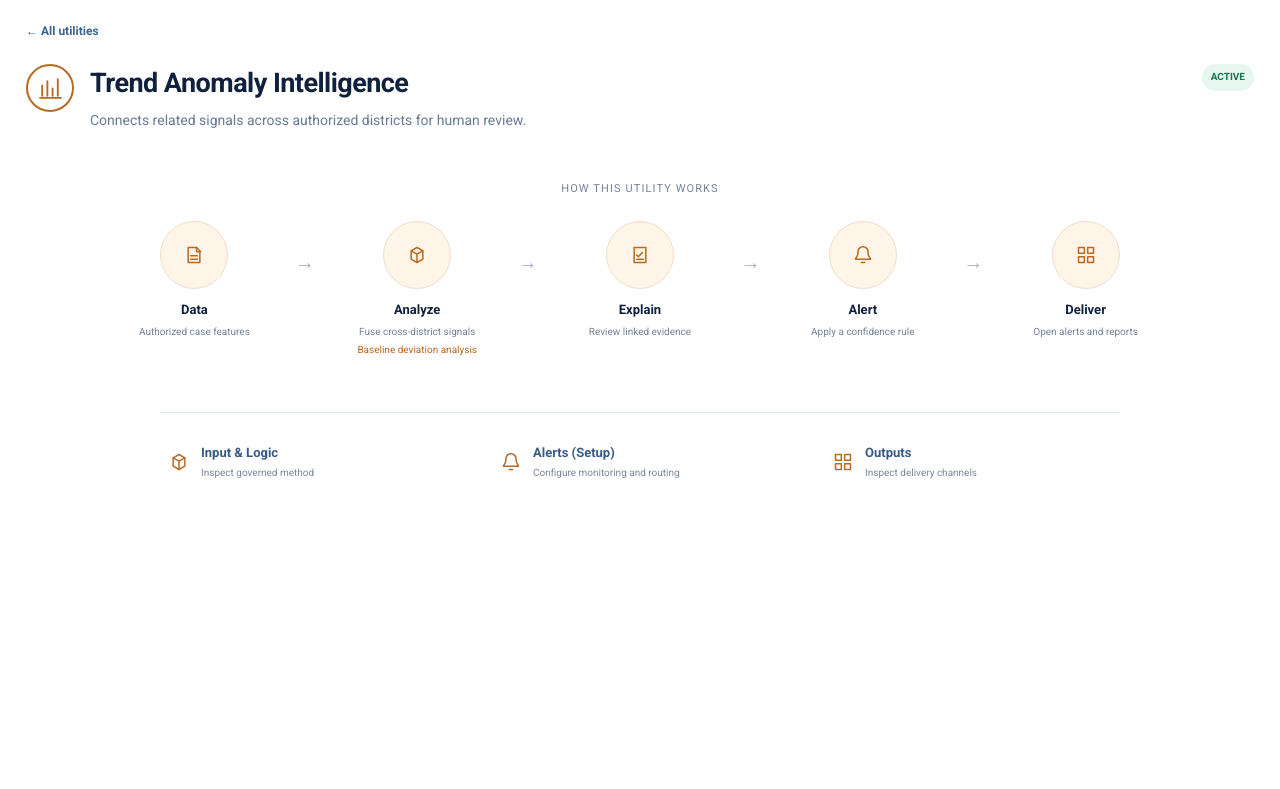
accepts revised server-owned AI assistance copy without a client copy allowlist
Check: the heading "Trend Anomaly Intelligence" is shown, box [90,67,408,99]
Click the button "Alerts (Setup)". click: (574, 452)
box: [492,435,788,489]
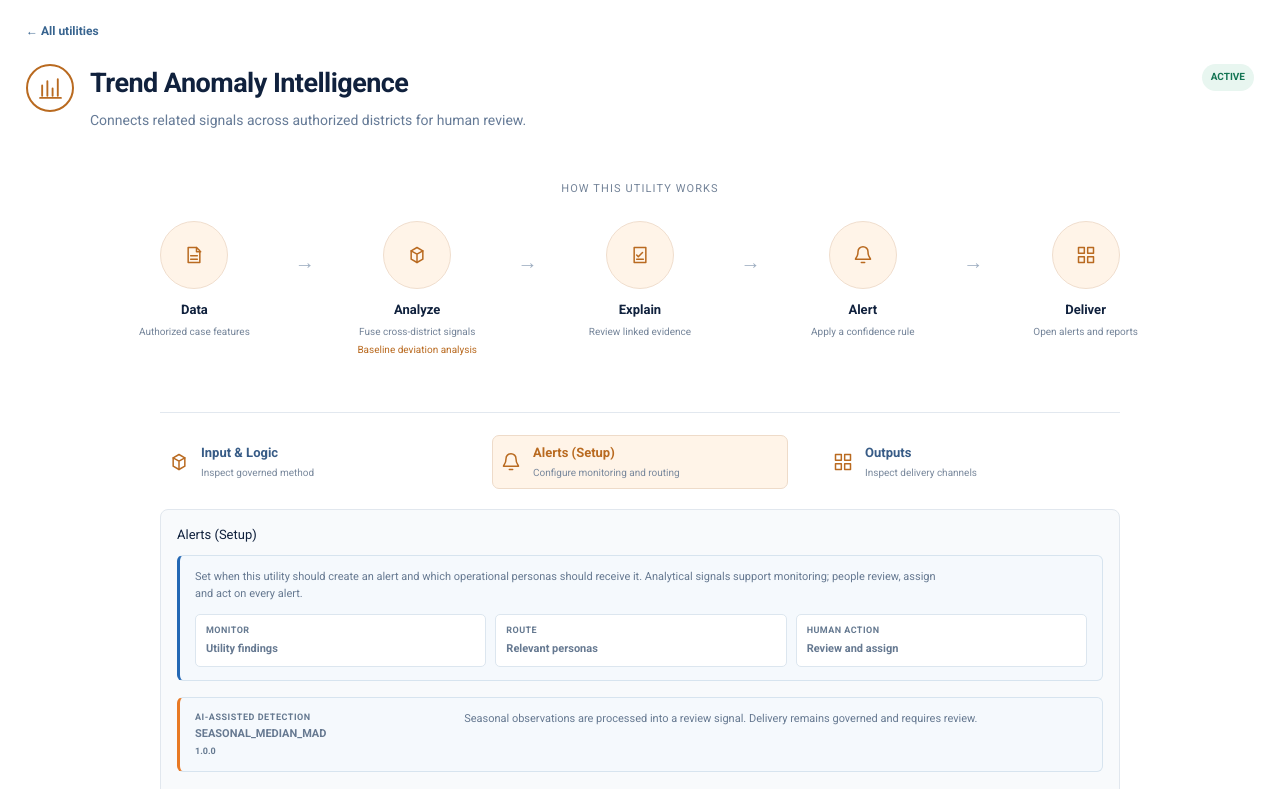
Check: the element "AI-assisted detection" shows "SEASONAL_MEDIAN_MAD", box [195,727,326,740]
Check: the element "AI-assisted detection" shows "Seasonal observations are processed into a review signal. Delivery remains governed and requires review.", box [464,712,978,725]
